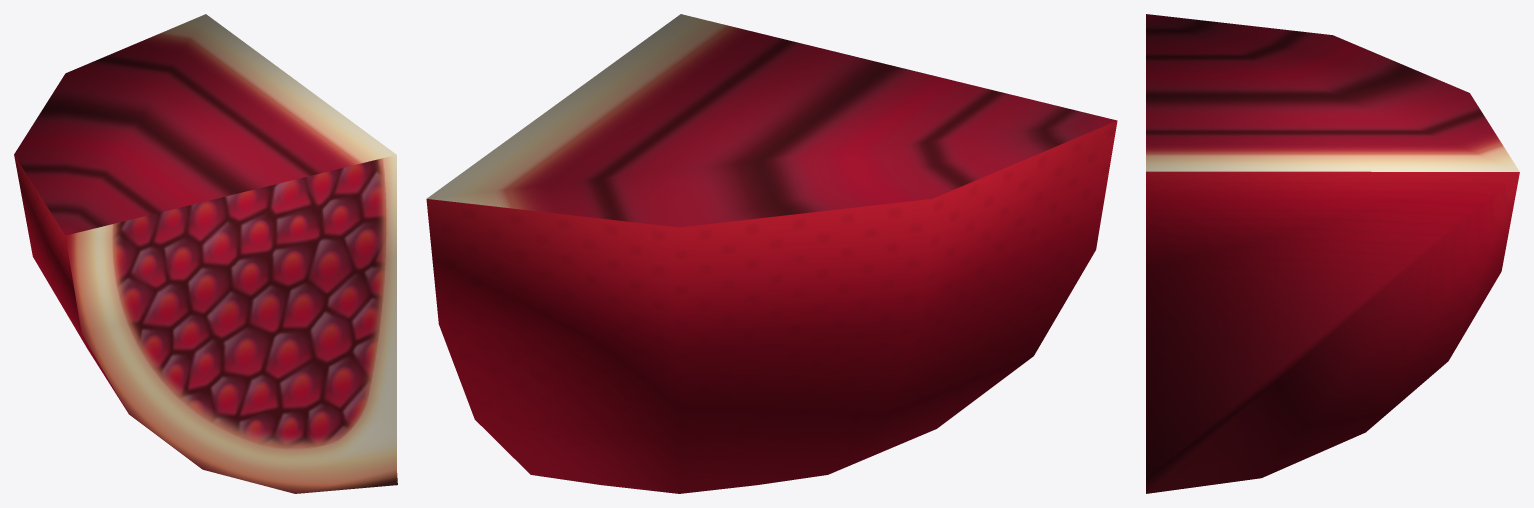
File: Pome_Bottom3.fbx
The picture shows the model from 3 angles, left to right: view 1: azimuth 30°, elevation 25°; view 2: azimuth 150°, elevation 25°; view 3: azimuth 270°, elevation 25°; orthographic projection. The views are drawn at different scales.
Visible parts, largest first — view 1: Pomegranate_Bottom3; view 2: Pomegranate_Bottom3; view 3: Pomegranate_Bottom3.
Part boxes in pixels (bbox=[...]): Pomegranate_Bottom3: bbox=[14, 14, 397, 493]; Pomegranate_Bottom3: bbox=[426, 14, 1117, 493]; Pomegranate_Bottom3: bbox=[1146, 14, 1519, 493].
Size of the model in its own units: 0.75 by 0.7125 by 0.75.
